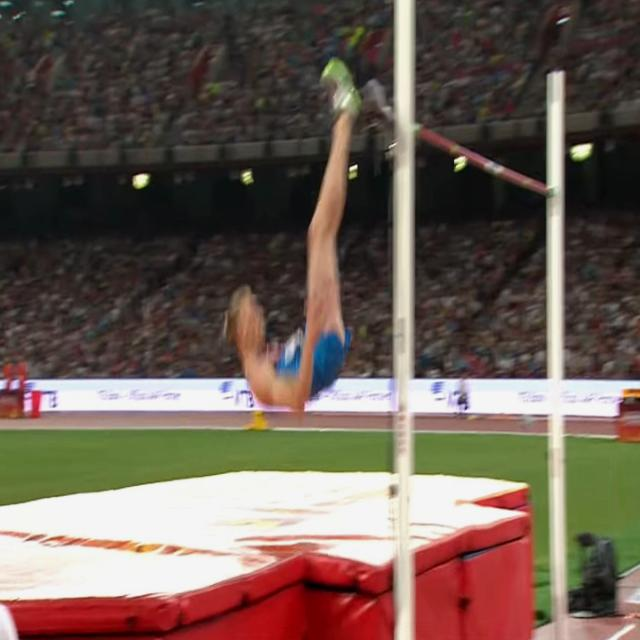land: (229, 60, 360, 412)
